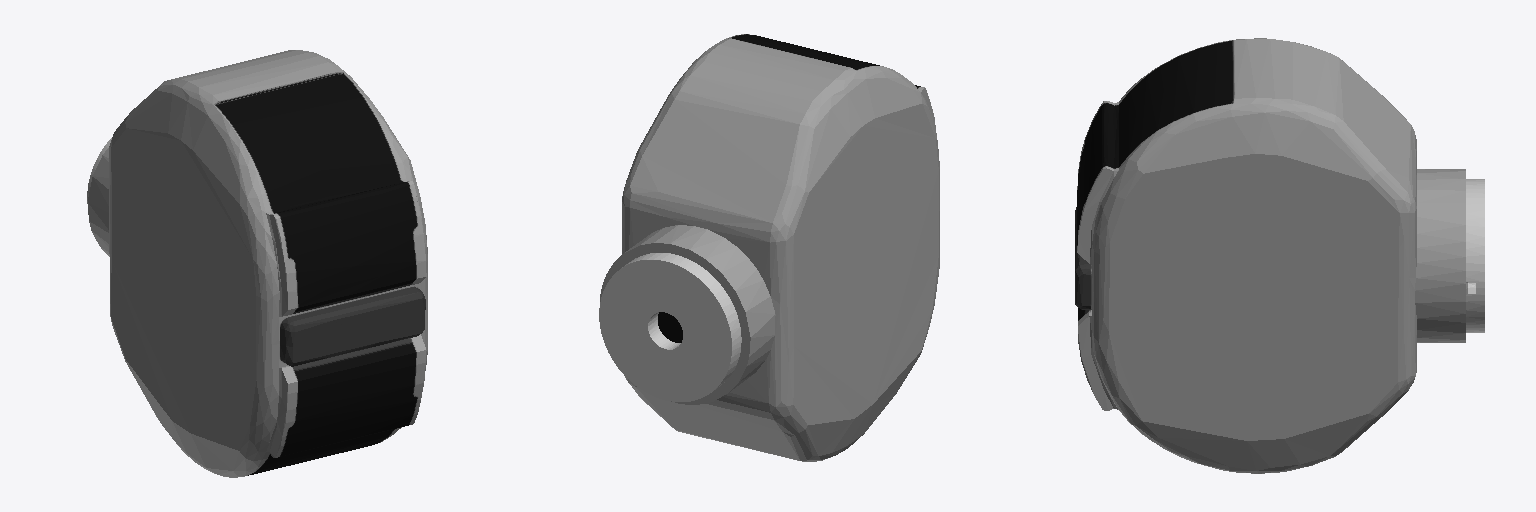
The picture shows the model from 3 angles: view 1: azimuth 30°, elevation 25°; view 2: azimuth 150°, elevation 25°; view 3: azimuth 270°, elevation 25°; orthographic projection.
Visible parts, largest first — view 1: /ambf/env/pr2/l_wrist_roll_link_/ambf/env/pr2/l_wrist_roll_link_; view 2: /ambf/env/pr2/l_wrist_roll_link_/ambf/env/pr2/l_wrist_roll_link_; view 3: /ambf/env/pr2/l_wrist_roll_link_/ambf/env/pr2/l_wrist_roll_link_.
Part boxes in pixels (x1,y1,x2,y2): /ambf/env/pr2/l_wrist_roll_link_/ambf/env/pr2/l_wrist_roll_link_: (87, 50, 427, 477); /ambf/env/pr2/l_wrist_roll_link_/ambf/env/pr2/l_wrist_roll_link_: (599, 34, 939, 461); /ambf/env/pr2/l_wrist_roll_link_/ambf/env/pr2/l_wrist_roll_link_: (1075, 38, 1484, 473).
Bounding box in the file's own units: 0.0485 × 0.102 × 0.1008.
Materials: 2 (1 with a texture image).